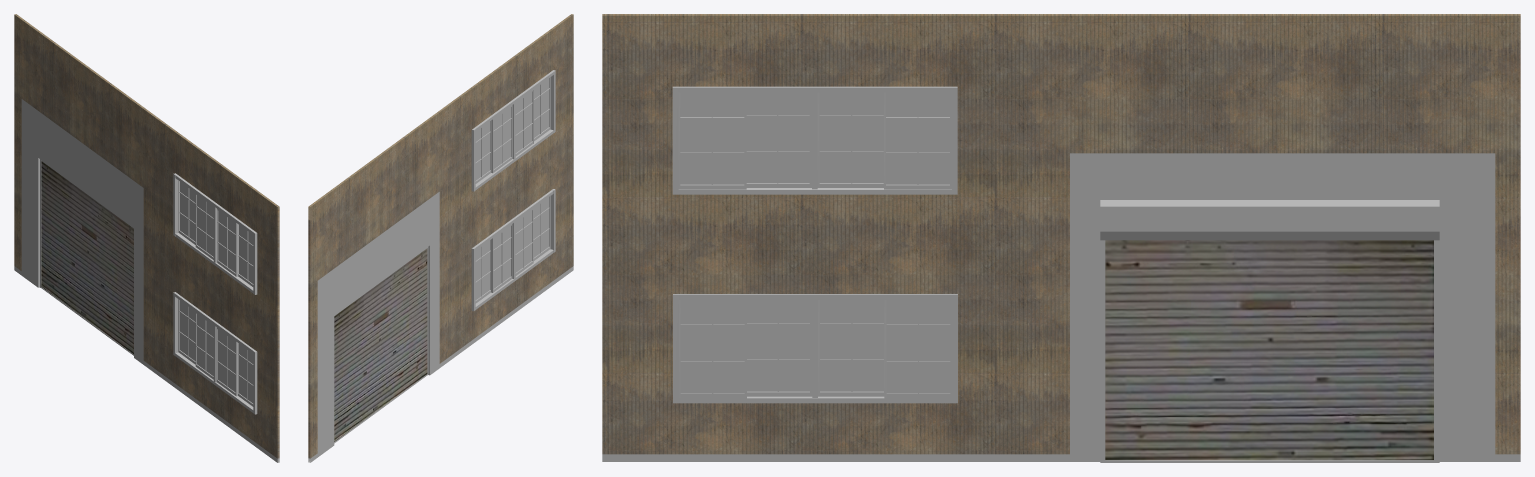
File: Factory_Small_04b.fbx
3 renders of one model, left to right at view 1: azimuth 30°, elevation 25°; view 2: azimuth 150°, elevation 25°; view 3: azimuth 270°, elevation 25°, orthographic. The views are drawn at different scales.
Visible parts, largest first — view 1: Factory_Small_04b; view 2: Factory_Small_04b; view 3: Factory_Small_04b.
Boxes of the visible parts, x1,y1,x2,y2 form: Factory_Small_04b: [14, 14, 279, 462]; Factory_Small_04b: [308, 14, 573, 462]; Factory_Small_04b: [602, 14, 1520, 462].
Bounding box in the file's own units: 0.2939 × 5.9 × 11.
